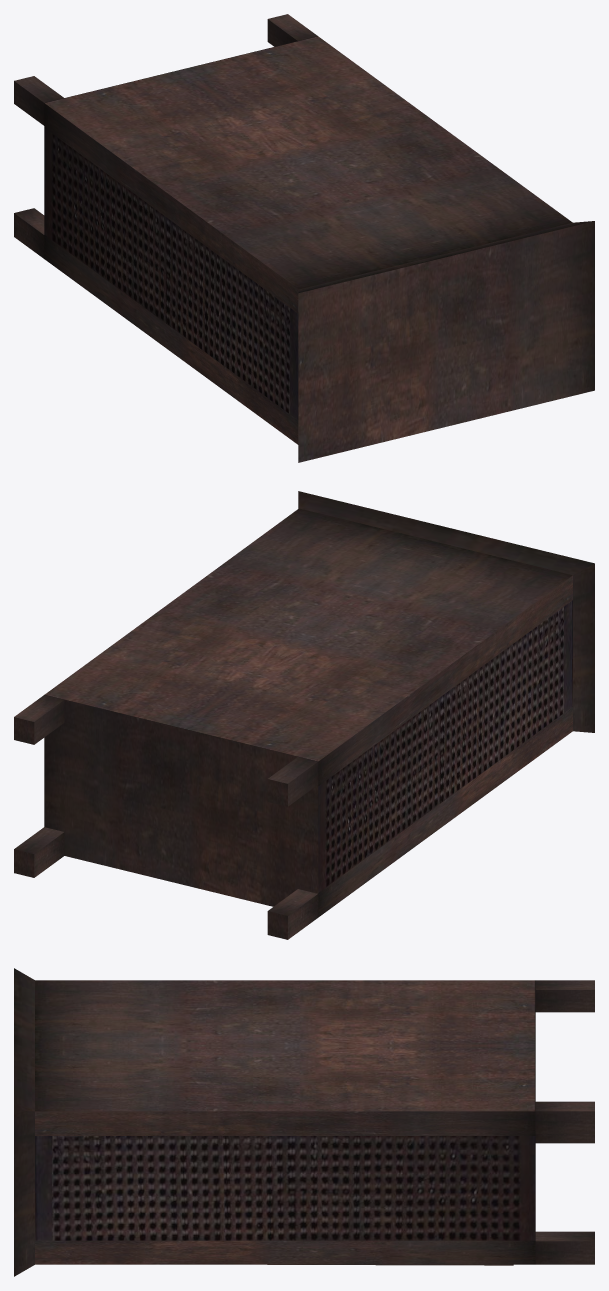
File: furniture_northafrica_armoire_tall.glb
3 renders of one model, top to bottom at view 1: azimuth 30°, elevation 25°; view 2: azimuth 150°, elevation 25°; view 3: azimuth 270°, elevation 25°, orthographic.
Bounding box in the file's own units: 45.76 × 25 × 79.
1 material, 1 textured.
